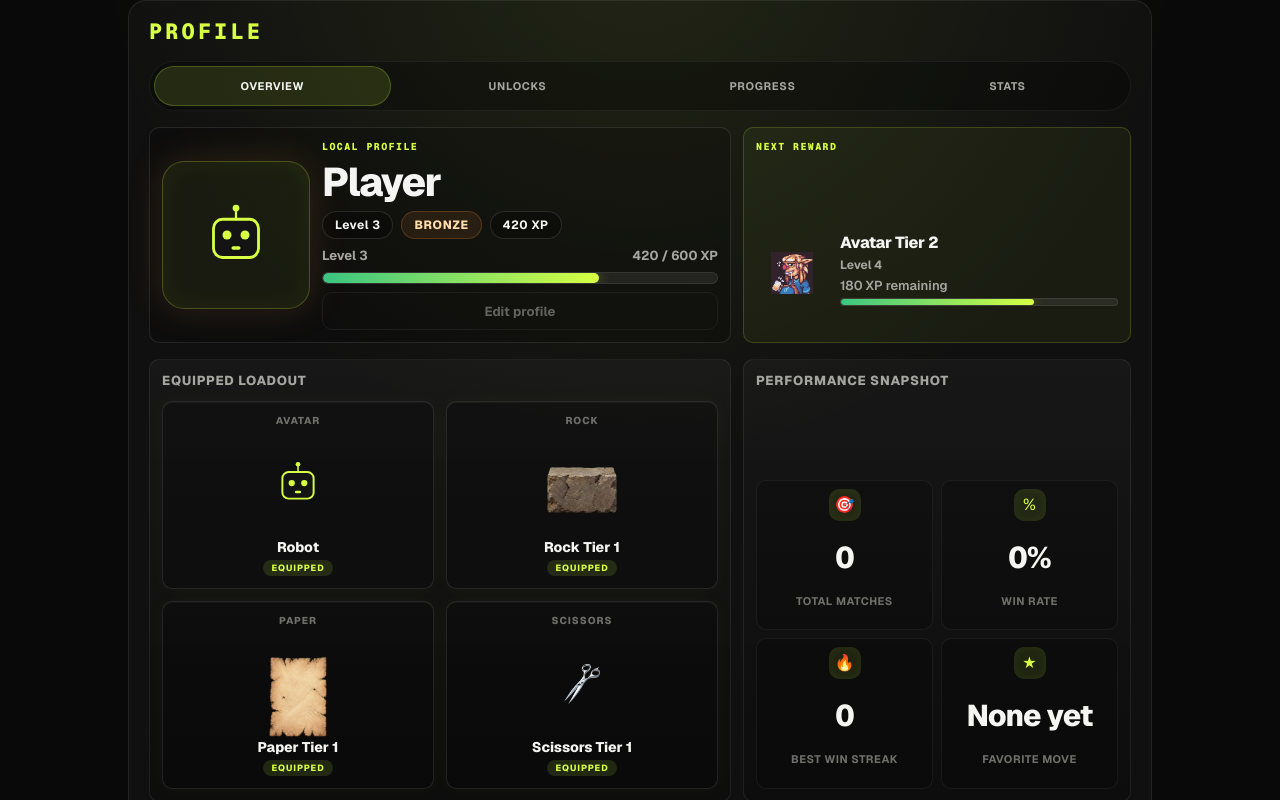
Test case: ProfilePageContent › shows champion as the highest rank and completed ranks before bronze
This screenshot has width=1280, height=800.
What coordinates should you click on to do the following:
click the tab "Progress"
I would click on:
 (762, 86)
Its box is [644,66,881,106].
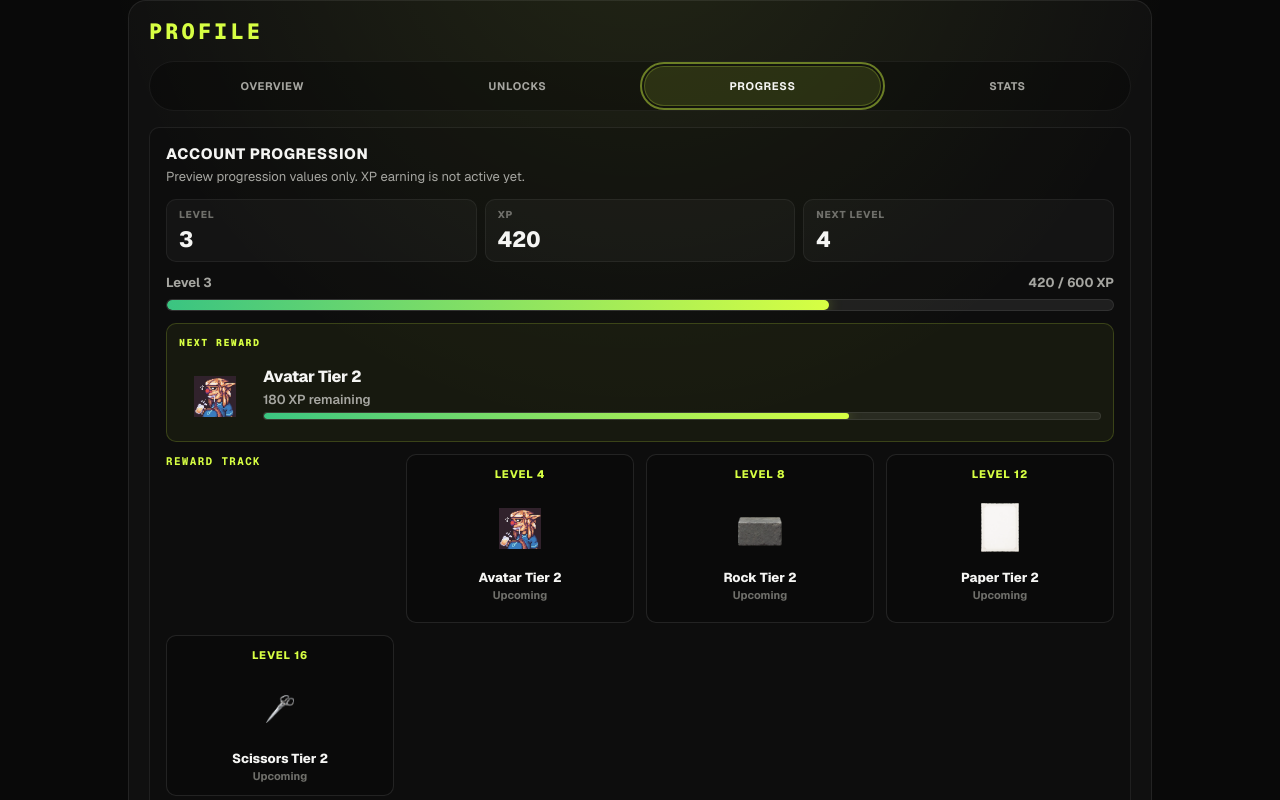
expect the progress indicator named "Level 3 progress" is shown: met, box [166,298,1114,310]
expect the heading "Account progression" is shown: met, box [166,144,368,163]
expect the text "Reward track" is shown: met, box [166,454,261,468]
